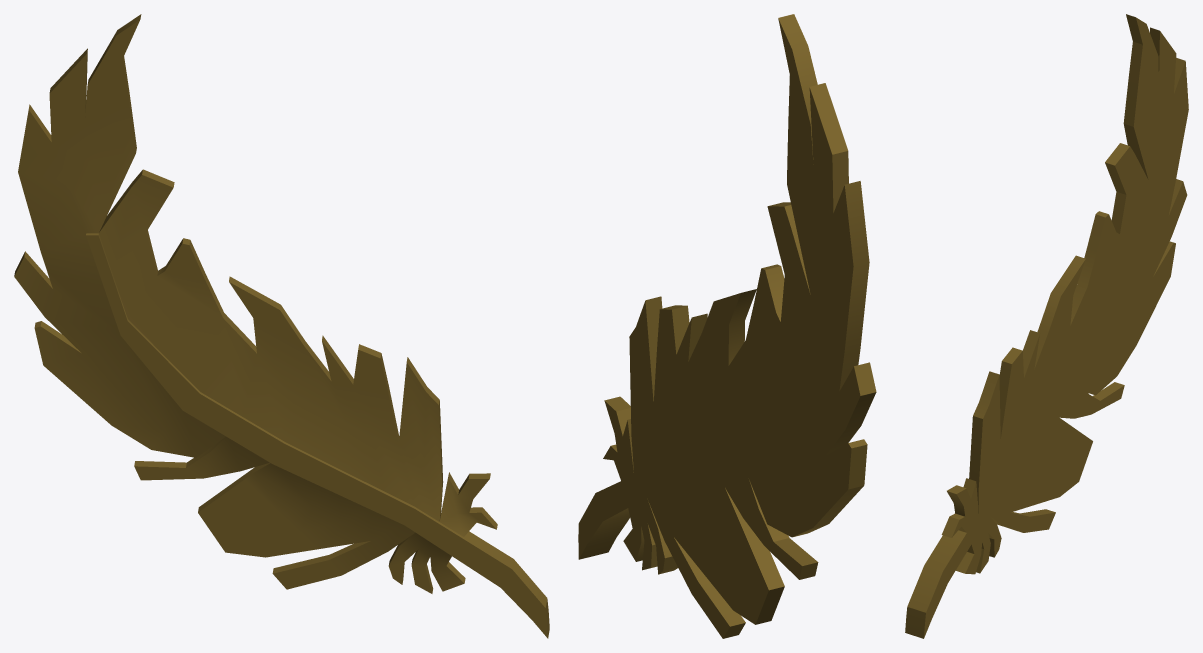
The model's file is MaskFeatherLeft.fbx.
3 renders of one model, left to right at view 1: azimuth 30°, elevation 25°; view 2: azimuth 150°, elevation 25°; view 3: azimuth 270°, elevation 25°, orthographic. The views are drawn at different scales.
Parts seen in each view (by area): view 1: FeatherLeft; view 2: FeatherLeft; view 3: FeatherLeft.
Boxes of the visible parts, bbox=[...] form: FeatherLeft: bbox=[14, 14, 549, 638]; FeatherLeft: bbox=[578, 14, 876, 638]; FeatherLeft: bbox=[905, 14, 1188, 638].
Bounding box in the file's own units: 12.96 × 19 × 9.68.
